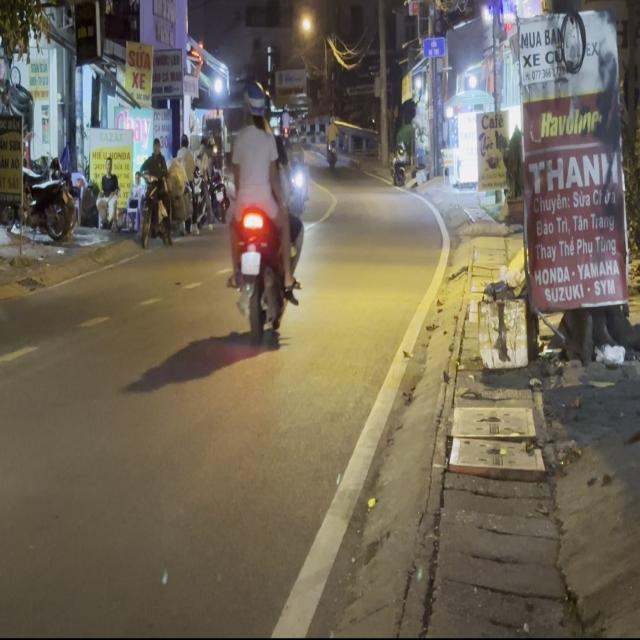helmet: (247, 84, 267, 126)
licenseplate: (224, 80, 305, 349)
nohelmet: (240, 251, 260, 274)
